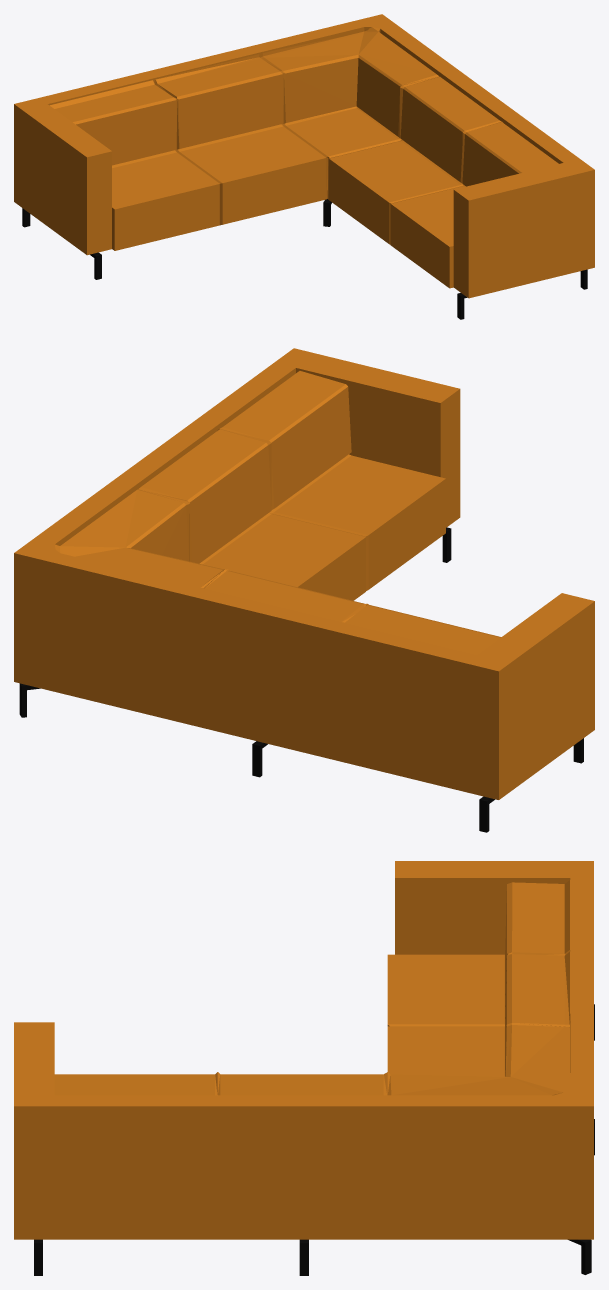
File: sofa_visual.dae
The picture shows the model from 3 angles, top to bottom: view 1: azimuth 30°, elevation 25°; view 2: azimuth 150°, elevation 25°; view 3: azimuth 270°, elevation 25°; orthographic projection. The views are drawn at different scales.
Parts seen in each view (by area): view 1: Cube_002; view 2: Cube_002; view 3: Cube_002.
Boxes of the visible parts, x1=… form: Cube_002: x1=14, y1=14, x2=594, y2=319; Cube_002: x1=14, y1=348, x2=594, y2=832; Cube_002: x1=14, y1=861, x2=594, y2=1275.
Size of the model in its own units: 2.6 by 2.6 by 0.8394.
